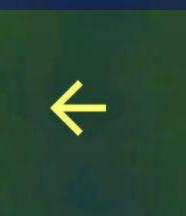ImgButton: (1, 1, 185, 215)
